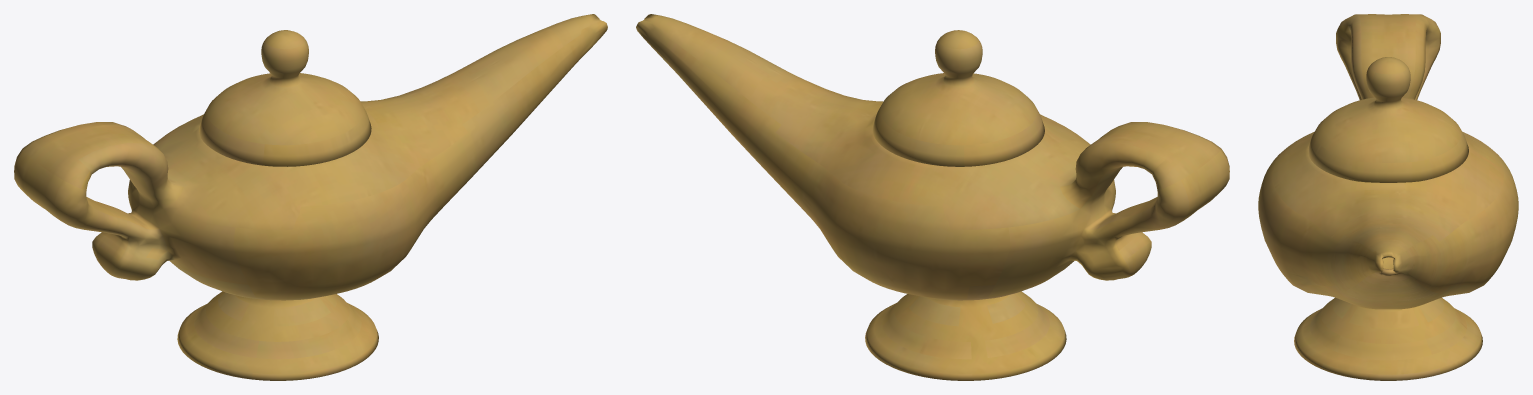
File: oil-lamp.glb
3 views of the same model, side by side, from view 1: azimuth 30°, elevation 25°; view 2: azimuth 150°, elevation 25°; view 3: azimuth 270°, elevation 25° (orthographic). The views are drawn at different scales.
Visible parts, largest first — view 1: Object_4, Object_6; view 2: Object_4, Object_6; view 3: Object_4, Object_6.
Part boxes in pixels (x1,y1,x2,y2): Object_4: [14, 14, 607, 380]; Object_6: [199, 30, 371, 166]; Object_4: [636, 14, 1229, 380]; Object_6: [872, 30, 1044, 166]; Object_4: [1258, 14, 1518, 380]; Object_6: [1308, 57, 1468, 182].
Bounding box in the file's own units: 9.52 × 4.94 × 4.01.
Materials: 1 (1 with a texture image).
